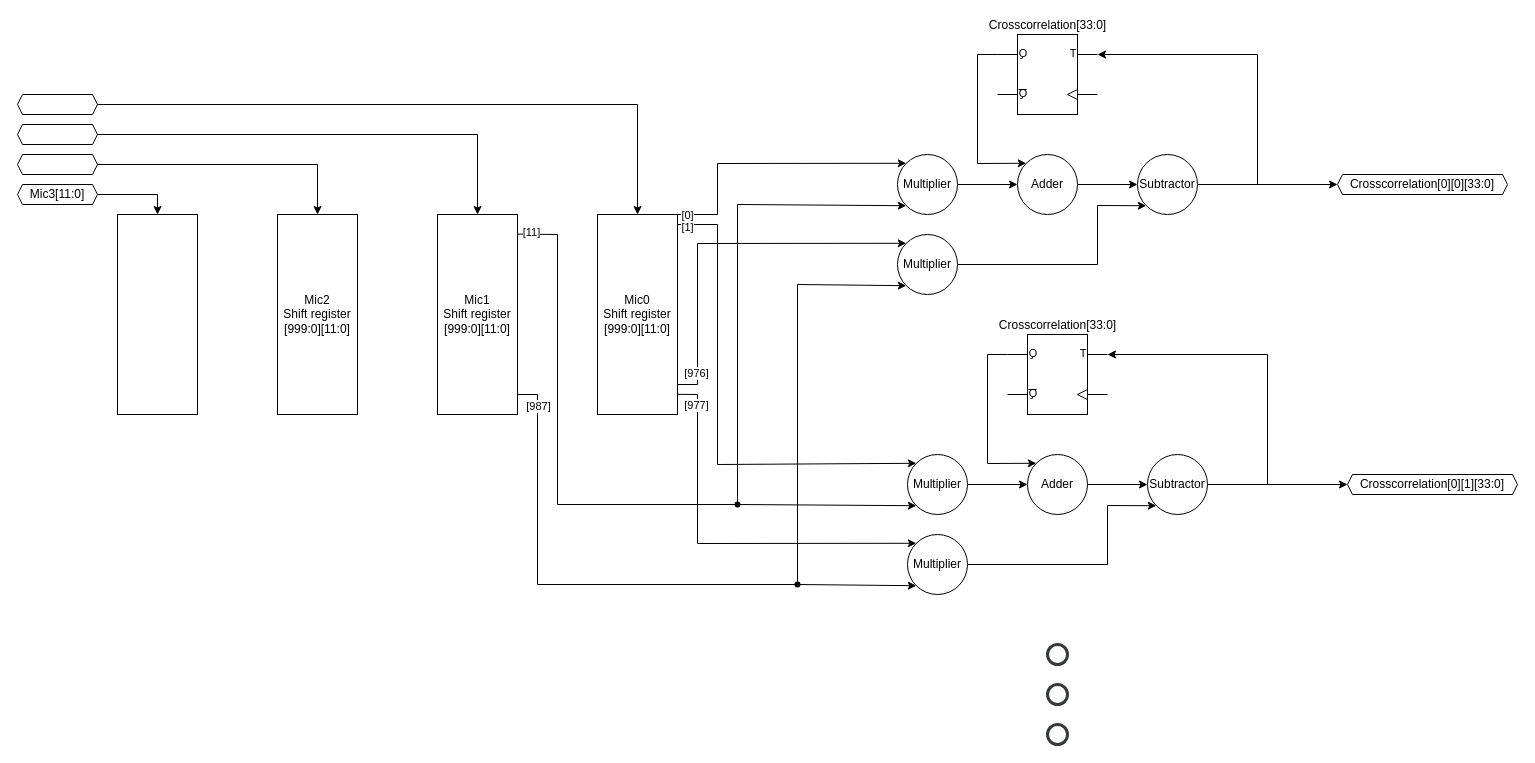
Image size: 1535x763. Some labels were removed from this diagram. Each missing label, with the box of its shape:
Mic0[11:0]: (16, 94, 98, 114)
Mic1[11:0]: (16, 124, 98, 144)
Mic2[11:0]: (16, 154, 98, 174)
Mic3 Shift register [999:0][11:0]: (116, 214, 198, 414)
